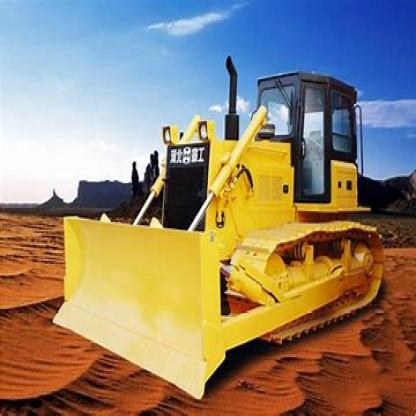bull_dozer/loader/grader: (60, 56, 396, 394)
